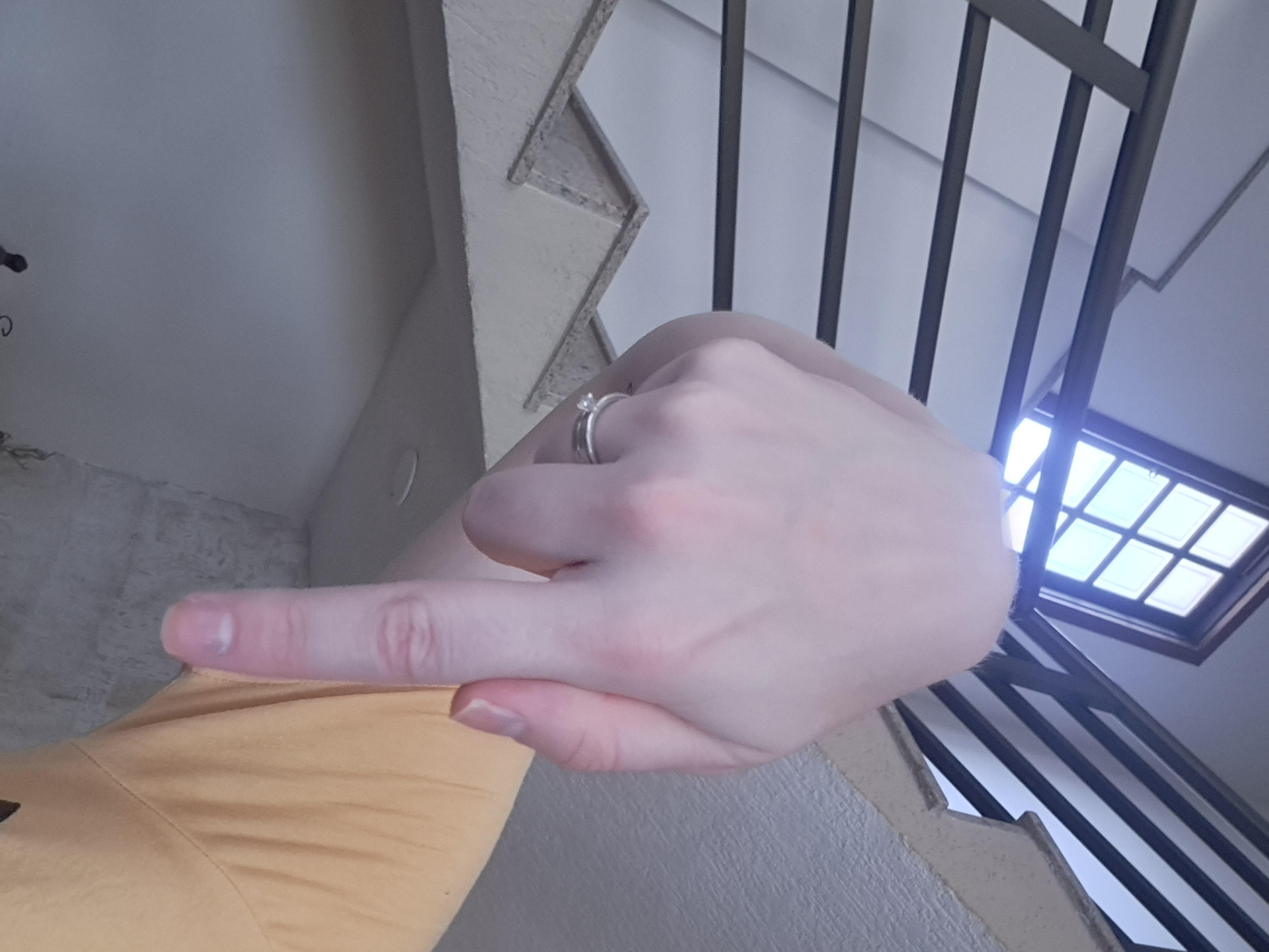Q: (441, 172, 1032, 852)
